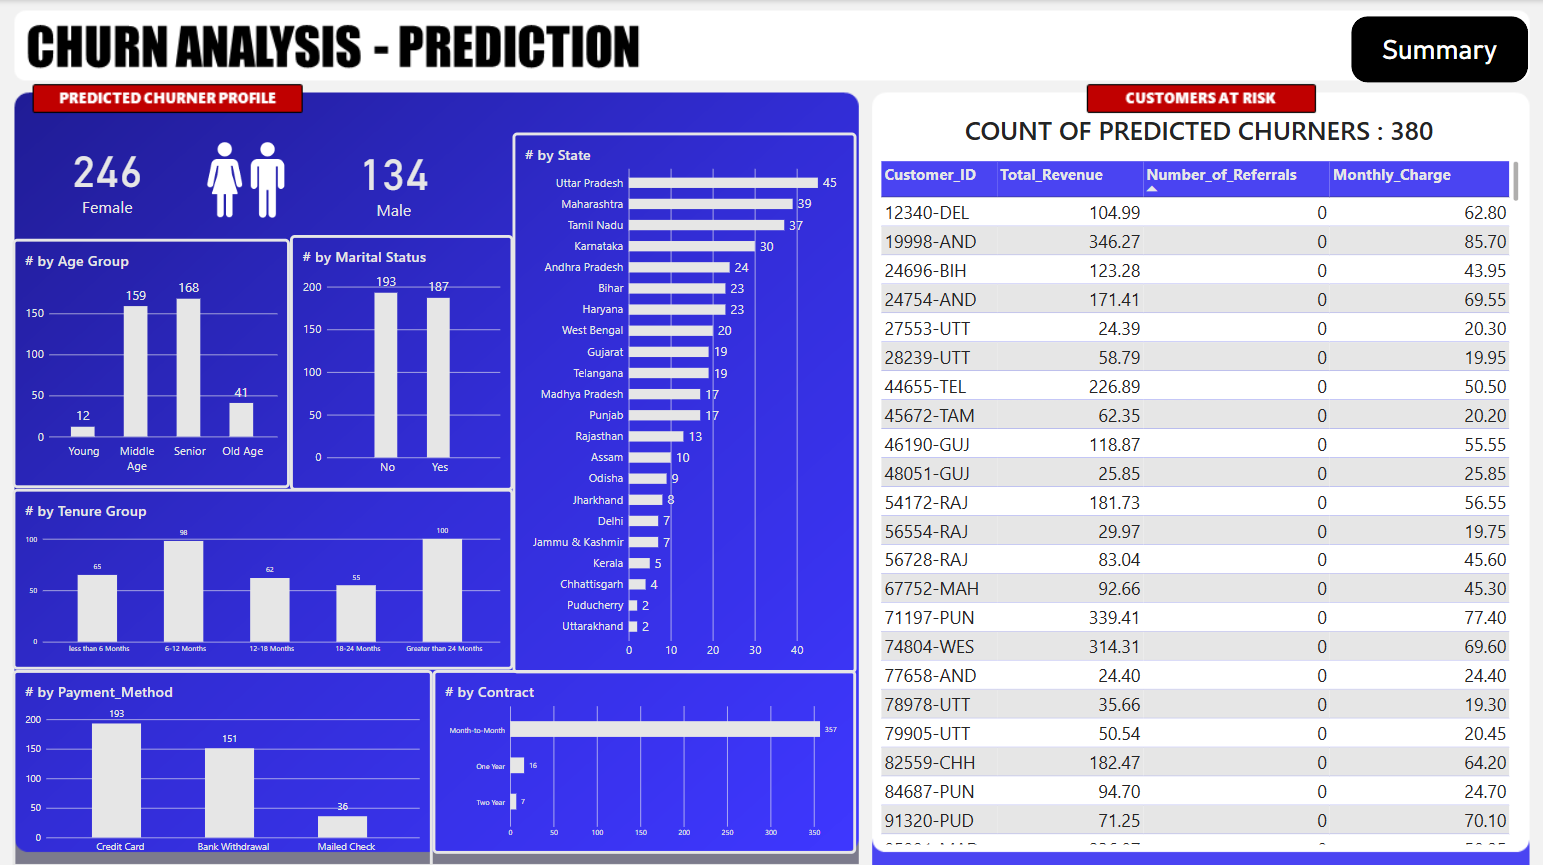

What the dashboard file says about the page in this screenshot:
{"tool":"powerbi","page":{"name":"Churn Prediction","canvas":[2560,1440],"ordinal":2},"visuals":[{"type":"tableEx","fields":{"Values":["Predictions.Customer_ID","Predictions.Total_Revenue","Predictions.Number_of_Referrals","Predictions.Monthly_Charge"]},"box":[1443.5,253.9,1089.3,1163.1],"z":0},{"type":"card","fields":{"Values":["Tbl_Measures.Title Predicted Churner"]},"box":[1496.7,135.8,983,159.4],"z":1000},{"type":"card","fields":{"Values":["Tbl_Measures.Count Predicted Churner"]},"box":[38.4,197.8,277.5,191.9],"z":2000},{"type":"card","fields":{"Values":["Tbl_Measures.Count Predicted Churner"]},"box":[498.9,200.7,307,191.9],"z":3000},{"type":"clusteredColumnChart","fields":{"Category":["Mapping_groupAge.Age Group"],"Y":["CountNonNull(Predictions.Customer_ID)"]},"box":[20,396,460,413.3],"z":4000},{"type":"clusteredColumnChart","fields":{"Category":["Predictions.Married"],"Y":["CountNonNull(Predictions.Customer_ID)"]},"box":[480,390,370,424],"z":5000},{"type":"clusteredColumnChart","fields":{"Category":["Predictions.Payment_Method"],"Y":["CountNonNull(Predictions.Customer_ID)"]},"box":[20,1110,696.7,330],"z":7000},{"type":"clusteredColumnChart","fields":{"Category":["Mapping_groupTenure.Tenure Group"],"Y":["CountNonNull(Predictions.Customer_ID)"]},"box":[20,810,830,300],"z":7500},{"type":"clusteredBarChart","fields":{"Category":["Predictions.State"],"Y":["CountNonNull(Predictions.Customer_ID)"]},"box":[850,220,570,896.7],"z":8000},{"type":"clusteredBarChart","fields":{"Category":["Predictions.Contract"],"Y":["CountNonNull(Predictions.Customer_ID)"]},"box":[717.1,1110.9,702.6,304.7],"z":9000},{"type":"image","box":[312.9,218.5,188.9,159.4],"z":10000},{"type":"shape","box":[2240,26.7,293.3,110],"z":11000}]}

Visuals, with their boxes in screenshot pixels (x1, y1, x2, y2), scaled from the page's 2560x1440 canvas onto the 1543x865 screenshot:
tableEx - Predictions.Customer_ID x Predictions.Total_Revenue: (x1=870, y1=153, x2=1527, y2=851)
card - Tbl_Measures.Title Predicted Churner: (x1=902, y1=82, x2=1495, y2=177)
card - Tbl_Measures.Count Predicted Churner: (x1=23, y1=119, x2=190, y2=234)
card - Tbl_Measures.Count Predicted Churner: (x1=301, y1=121, x2=486, y2=236)
clusteredColumnChart - Mapping_groupAge.Age Group x CountNonNull(Predictions.Customer_ID): (x1=12, y1=238, x2=289, y2=486)
clusteredColumnChart - Predictions.Married x CountNonNull(Predictions.Customer_ID): (x1=289, y1=234, x2=512, y2=489)
clusteredColumnChart - Predictions.Payment_Method x CountNonNull(Predictions.Customer_ID): (x1=12, y1=667, x2=432, y2=864)
clusteredColumnChart - Mapping_groupTenure.Tenure Group x CountNonNull(Predictions.Customer_ID): (x1=12, y1=487, x2=512, y2=667)
clusteredBarChart - Predictions.State x CountNonNull(Predictions.Customer_ID): (x1=512, y1=132, x2=856, y2=671)
clusteredBarChart - Predictions.Contract x CountNonNull(Predictions.Customer_ID): (x1=432, y1=667, x2=856, y2=850)
image: (x1=189, y1=131, x2=302, y2=227)
shape: (x1=1350, y1=16, x2=1527, y2=82)
